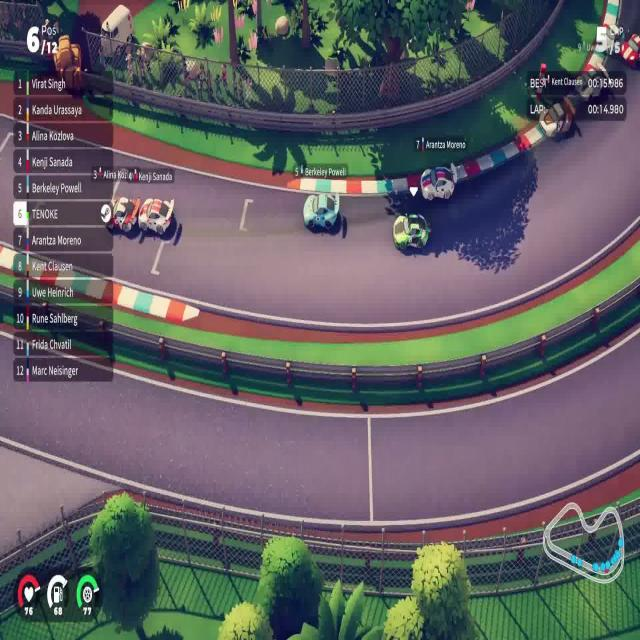car: (392, 210, 430, 252), (302, 191, 340, 232), (137, 196, 175, 237), (537, 98, 576, 137), (419, 164, 459, 201)
